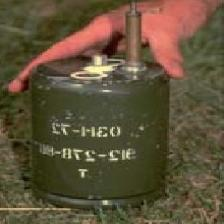OZM-72: (32, 56, 174, 210)
